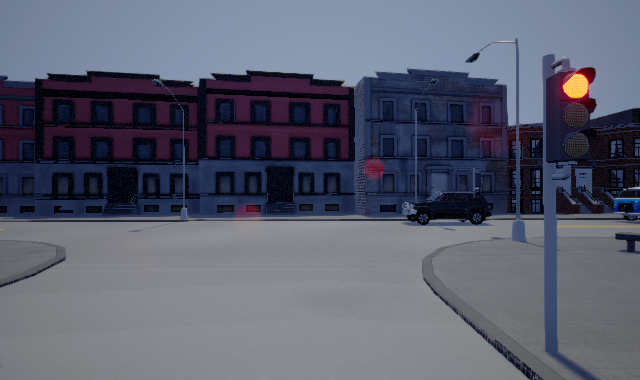traffic_light: (546, 65, 597, 162)
vehicle: (404, 191, 492, 225), (613, 187, 640, 221)
